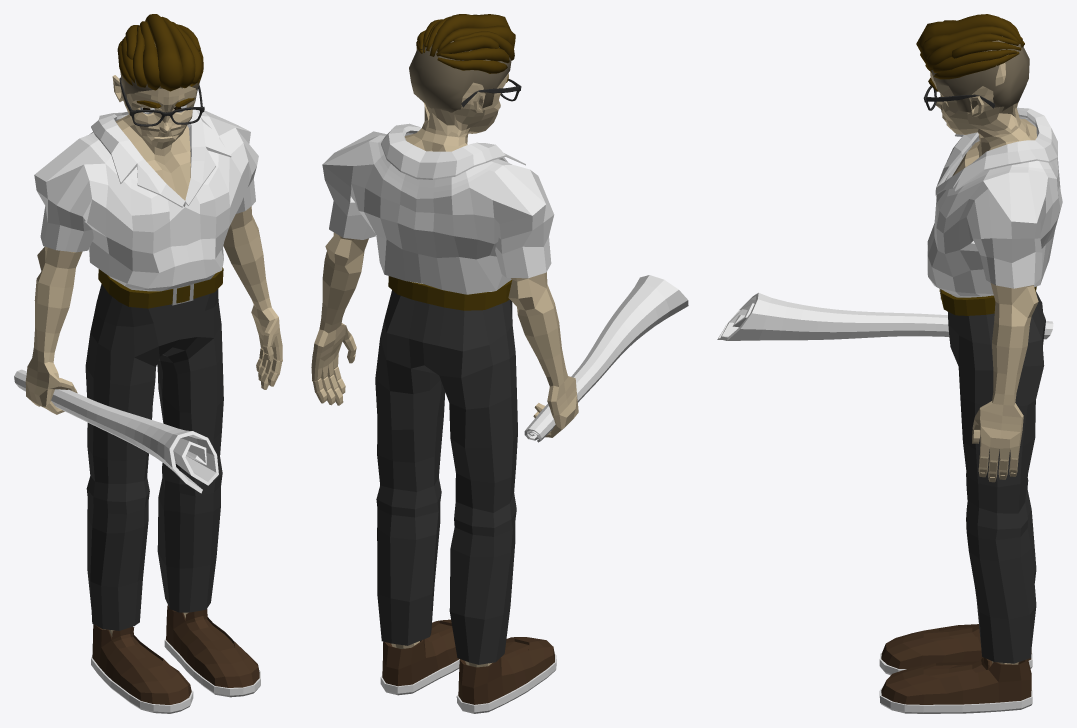
The model's file is Character Self look alike.fbx.
3 views of the same model, side by side, from view 1: azimuth 30°, elevation 25°; view 2: azimuth 150°, elevation 25°; view 3: azimuth 270°, elevation 25° (orthographic). The views are drawn at different scales.
Parts seen in each view (by area): view 1: Clothes2, Character, Shoes, Thesis, CharacterHair1, pPlane1; view 2: Clothes2, Character, Shoes, CharacterHair1, Thesis; view 3: Clothes2, Character, Shoes, CharacterHair1, Thesis.
Part boxes in pixels (bbox=[...]): Clothes2: bbox=[34, 109, 258, 630]; Character: bbox=[25, 75, 282, 636]; Shoes: bbox=[91, 605, 260, 713]; Thesis: bbox=[14, 369, 218, 493]; CharacterHair1: bbox=[117, 14, 203, 105]; pPlane1: bbox=[129, 107, 204, 126]; Clothes2: bbox=[322, 123, 554, 664]; Character: bbox=[311, 49, 578, 667]; Shoes: bbox=[380, 619, 556, 713]; CharacterHair1: bbox=[409, 14, 515, 112]; Thesis: bbox=[524, 275, 688, 442]; Clothes2: bbox=[927, 107, 1062, 663]; Character: bbox=[930, 62, 1038, 664]; Shoes: bbox=[879, 624, 1032, 713]; CharacterHair1: bbox=[916, 14, 1029, 112]; Thesis: bbox=[717, 292, 1053, 340].
Bounding box in the file's own units: 8.9 × 22.85 × 10.72.
